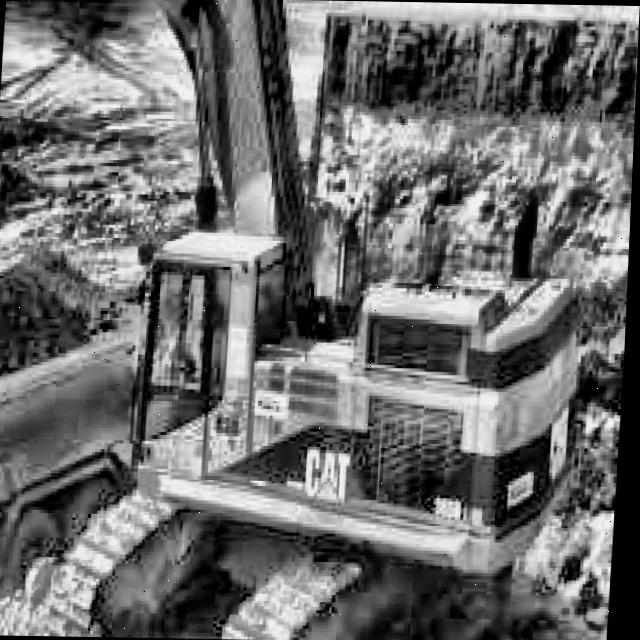dump_truck: (0, 301, 186, 637)
excavator: (0, 0, 602, 640)
